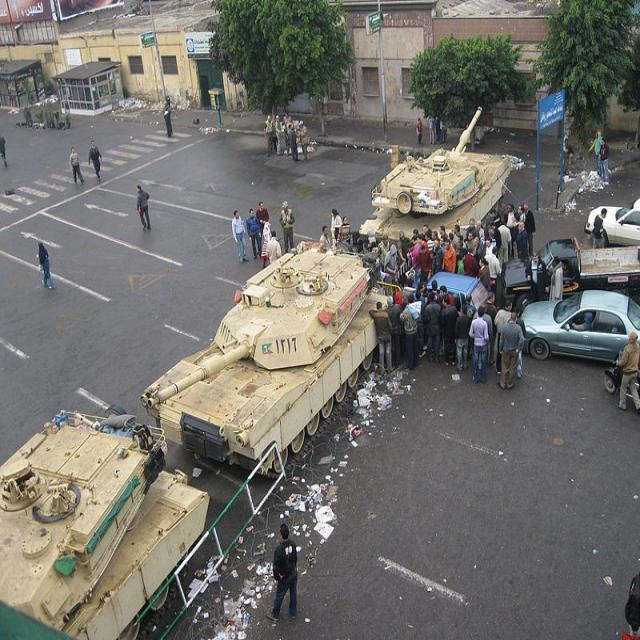body: (264, 523, 298, 622), (336, 234, 389, 280), (613, 329, 640, 411), (498, 310, 524, 392), (398, 294, 422, 372), (468, 303, 490, 385), (368, 301, 394, 369), (493, 298, 513, 377), (471, 304, 494, 372), (506, 305, 526, 380), (382, 295, 402, 370), (422, 291, 442, 365), (438, 294, 458, 367), (524, 250, 550, 303), (562, 310, 592, 352), (454, 302, 471, 373), (230, 209, 250, 265), (496, 217, 513, 280), (484, 289, 498, 364), (278, 199, 296, 256), (414, 290, 428, 360), (244, 207, 262, 260), (520, 203, 537, 259), (408, 233, 422, 300), (502, 203, 518, 259), (134, 184, 153, 230), (38, 242, 56, 290), (383, 242, 399, 296), (588, 129, 604, 180), (592, 206, 609, 249), (549, 255, 564, 301), (68, 145, 85, 185), (336, 215, 353, 255), (488, 246, 502, 294), (265, 229, 282, 266), (260, 220, 272, 271), (295, 119, 309, 162), (515, 220, 529, 263), (377, 234, 392, 274), (598, 137, 610, 186), (442, 238, 458, 274), (88, 140, 102, 180), (287, 123, 301, 162), (463, 244, 479, 278), (256, 200, 270, 238), (418, 244, 432, 282), (397, 229, 410, 269), (330, 207, 342, 250), (562, 128, 572, 177), (263, 114, 274, 157), (274, 115, 285, 156), (484, 207, 498, 239), (478, 257, 490, 292), (488, 220, 502, 250), (162, 99, 172, 139), (281, 113, 290, 155), (414, 282, 428, 309), (319, 225, 332, 254), (426, 279, 441, 304), (438, 285, 454, 308), (454, 239, 464, 274), (465, 293, 477, 322), (272, 114, 280, 155), (410, 262, 418, 303), (464, 231, 476, 258), (470, 235, 484, 258), (434, 238, 443, 273), (451, 223, 465, 245), (465, 218, 479, 239), (484, 237, 494, 266), (515, 204, 528, 224), (433, 110, 441, 142), (393, 290, 404, 313), (425, 232, 436, 254), (475, 219, 486, 241), (0, 136, 8, 166), (416, 117, 424, 146), (457, 251, 466, 276), (514, 212, 522, 240), (487, 227, 497, 248), (416, 232, 429, 248), (428, 113, 434, 145), (406, 246, 414, 270), (438, 224, 449, 241), (439, 234, 447, 255), (448, 232, 457, 250), (422, 223, 432, 239), (560, 260, 568, 275), (406, 242, 414, 254), (431, 231, 438, 242), (457, 234, 465, 242), (412, 227, 419, 235)
